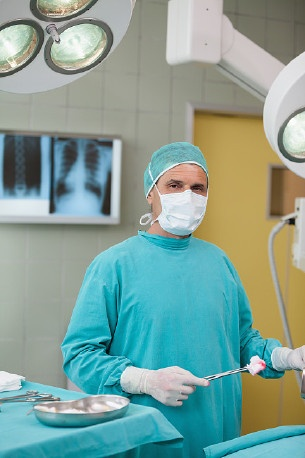Mask: (152, 174, 215, 238)
